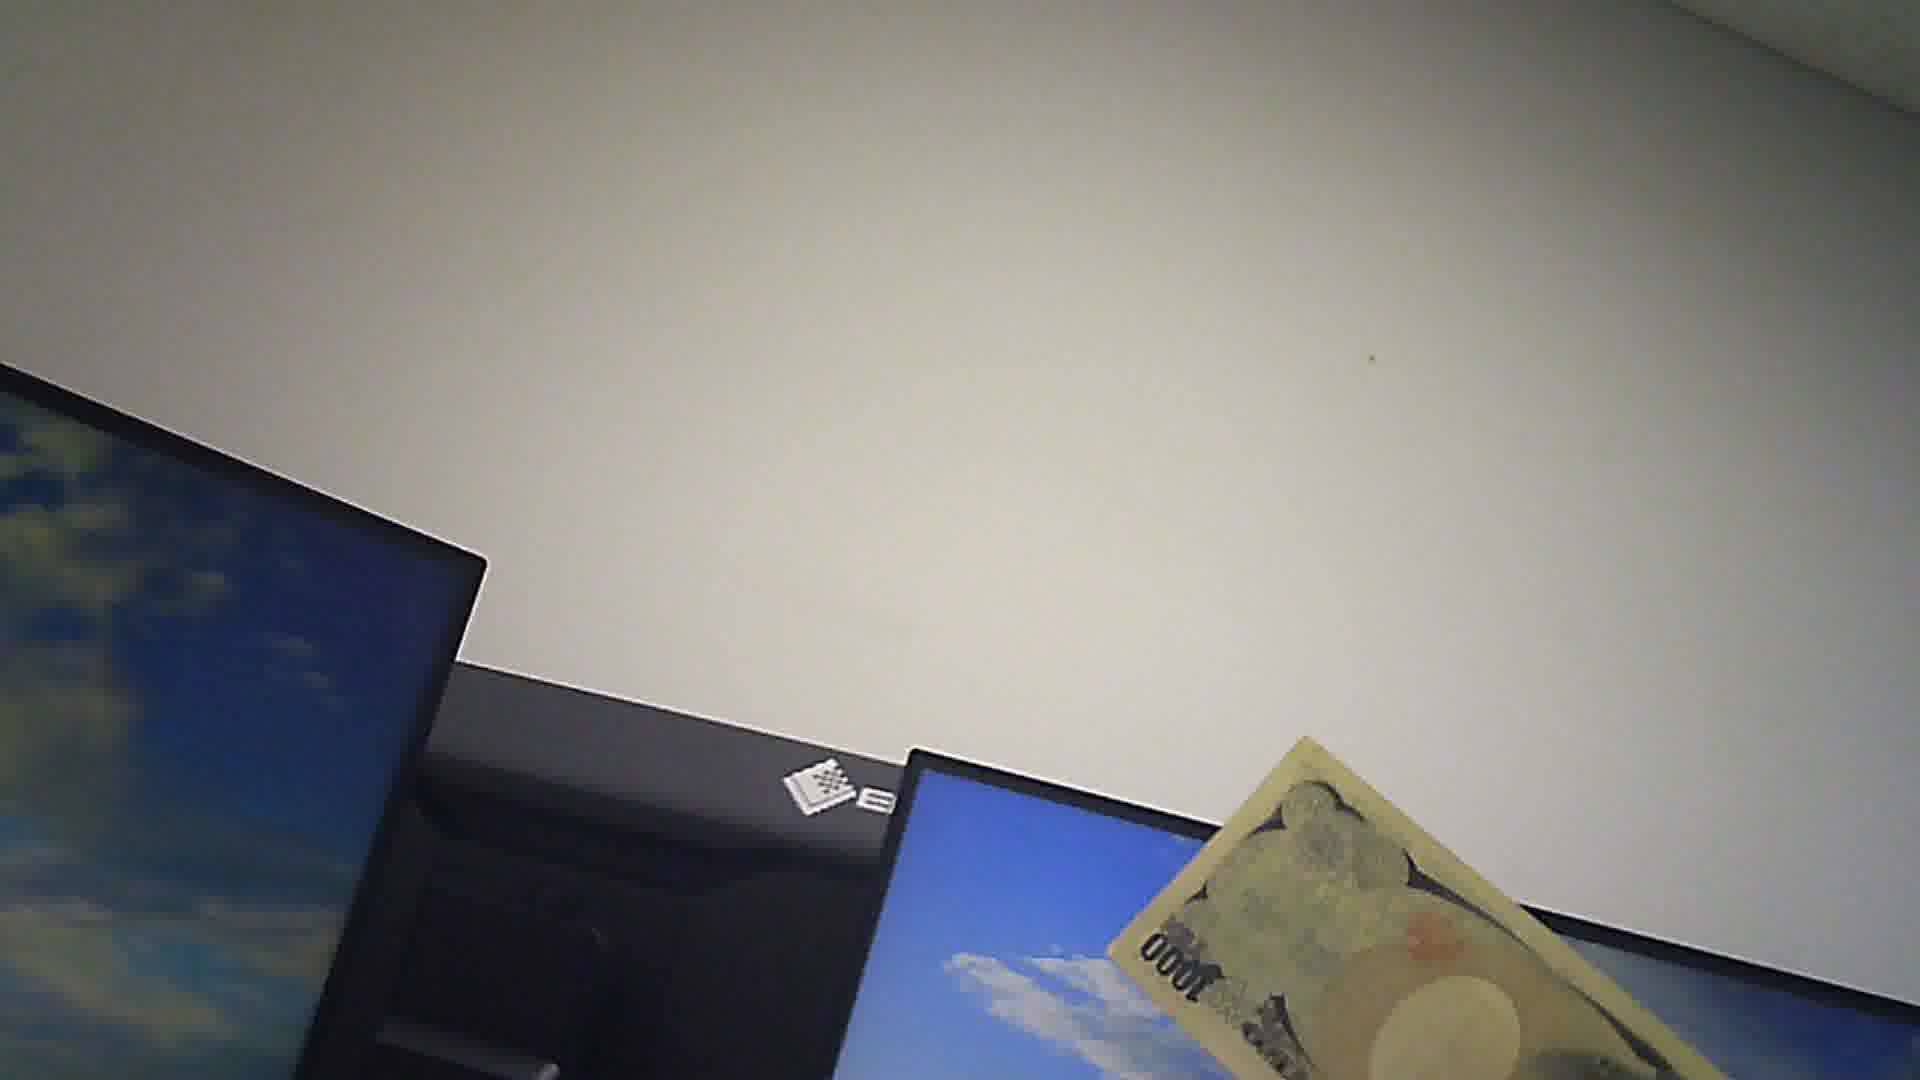1,000 Yen: (1106, 724, 1713, 1079)
